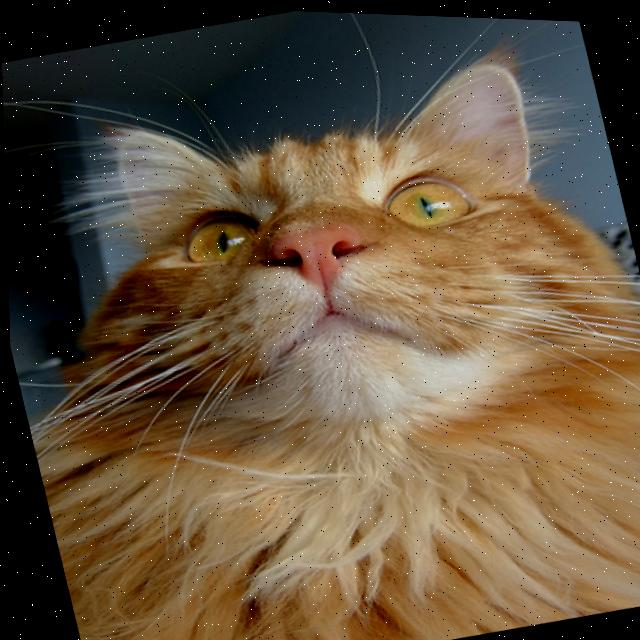Maine Coon: (0, 7, 640, 640)
